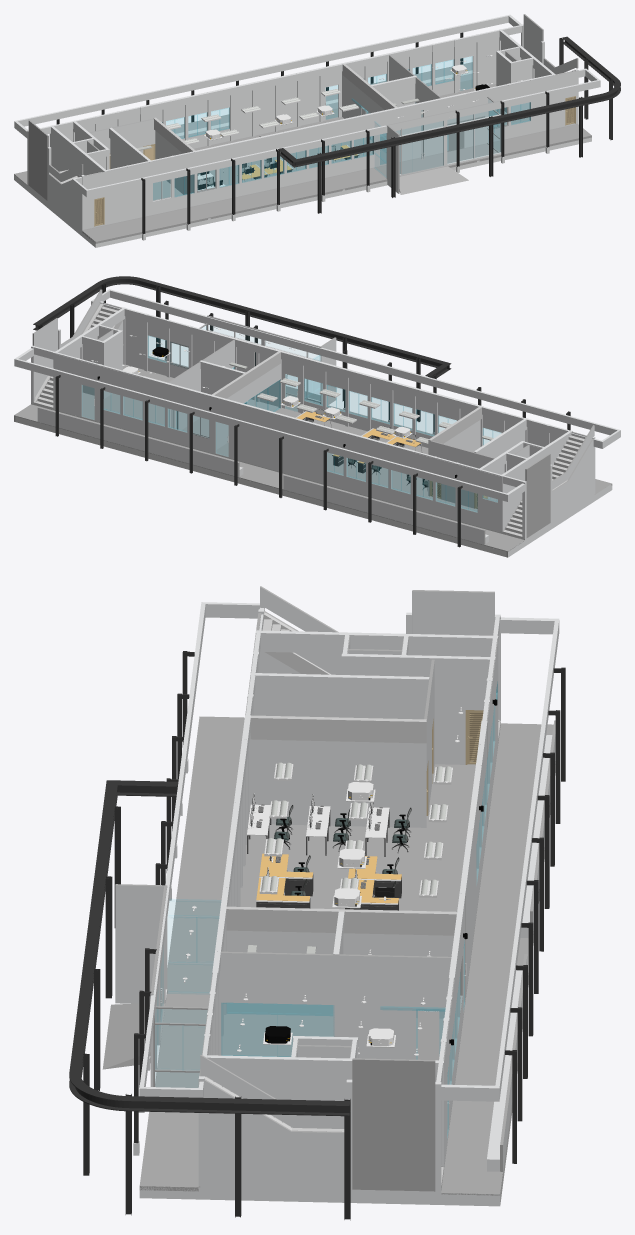
The model's file is en110-1-full.glb.
The picture shows the model from 3 angles, top to bottom: view 1: azimuth 30°, elevation 25°; view 2: azimuth 150°, elevation 25°; view 3: azimuth 270°, elevation 25°; orthographic projection. The views are drawn at different scales.
Visible parts, largest first — view 1: EN1100199, EN1100104, EN1100102, EN1100105, EN1100106, EN1100108, EN1100107, EN1100103, EN1100101, EN1100109; view 2: EN1100199, EN1100104, EN1100102, EN1100103, EN1100105, EN1100106, EN1100107, EN1100101, EN1100108, EN1100109; view 3: EN1100199, EN1100104, EN1100105, EN1100102, EN1100106, EN1100101, EN1100103, EN1100109, EN1100108, EN1100107.
Part boxes in pixels (x1=…): EN1100199: x1=14, y1=14, x2=620, y2=247; EN1100104: x1=73, y1=63, x2=396, y2=206; EN1100102: x1=386, y1=30, x2=553, y2=152; EN1100105: x1=110, y1=118, x2=195, y2=215; EN1100106: x1=86, y1=127, x2=150, y2=225; EN1100108: x1=342, y1=54, x2=416, y2=139; EN1100107: x1=29, y1=120, x2=106, y2=230; EN1100103: x1=369, y1=86, x2=442, y2=162; EN1100101: x1=500, y1=14, x2=578, y2=129; EN1100109: x1=51, y1=121, x2=95, y2=153; EN1100199: x1=14, y1=276, x2=620, y2=557; EN1100104: x1=212, y1=351, x2=498, y2=511; EN1100102: x1=56, y1=308, x2=236, y2=430; EN1100103: x1=199, y1=339, x2=280, y2=411; EN1100105: x1=429, y1=406, x2=526, y2=498; EN1100106: x1=474, y1=419, x2=569, y2=508; EN1100107: x1=502, y1=425, x2=594, y2=536; EN1100101: x1=32, y1=289, x2=124, y2=405; EN1100108: x1=167, y1=360, x2=248, y2=449; EN1100109: x1=480, y1=452, x2=528, y2=502; EN1100199: x1=69, y1=587, x2=565, y2=1220; EN1100104: x1=221, y1=658, x2=494, y2=1016; EN1100105: x1=246, y1=675, x2=431, y2=827; EN1100102: x1=202, y1=951, x2=457, y2=1102; EN1100106: x1=250, y1=633, x2=434, y2=773; EN1100101: x1=200, y1=1055, x2=443, y2=1166; EN1100103: x1=215, y1=906, x2=344, y2=1056; EN1100109: x1=400, y1=634, x2=497, y2=764; EN1100108: x1=333, y1=909, x2=462, y2=1060; EN1100107: x1=258, y1=586, x2=500, y2=720.
Size of what is drawn, in the model's own units: 40.4 by 5.35 by 16.78.
